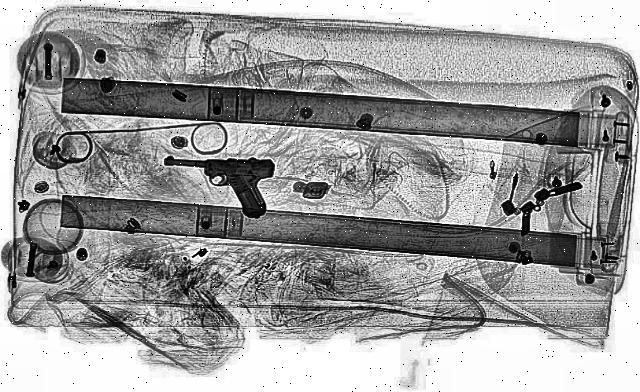Gun: (164, 157, 278, 217)
